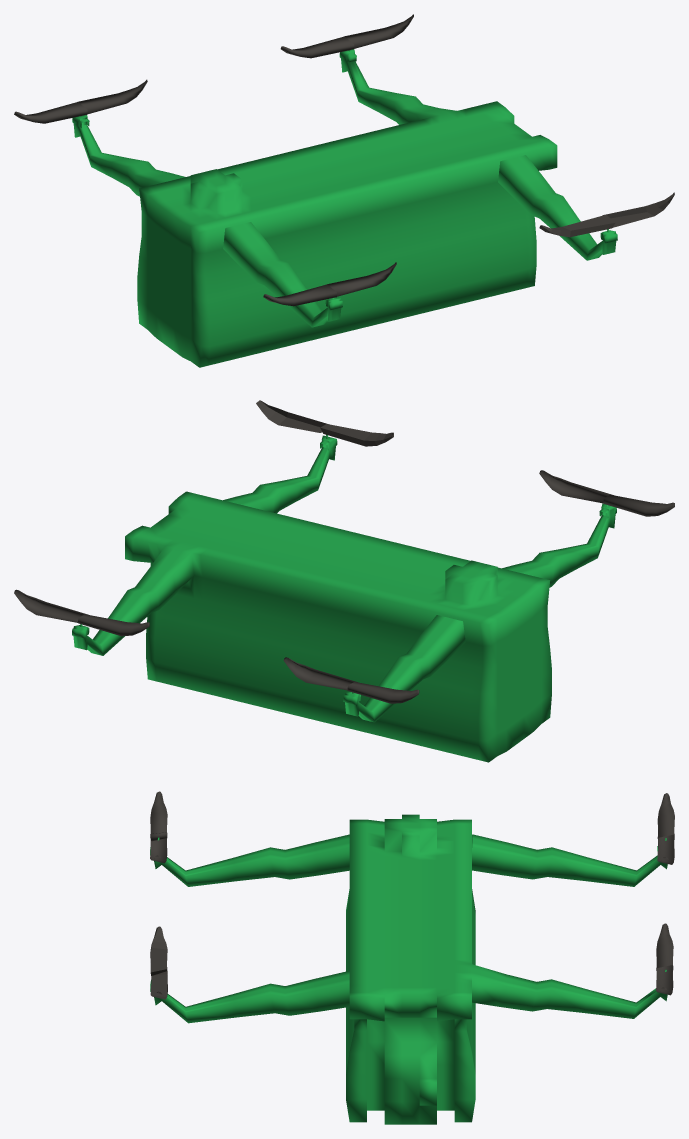
File: dronVerde.fbx
The picture shows the model from 3 angles, top to bottom: view 1: azimuth 30°, elevation 25°; view 2: azimuth 150°, elevation 25°; view 3: azimuth 270°, elevation 25°; orthographic projection.
Visible parts, largest first — view 1: Cube.007; view 2: Cube.007; view 3: Cube.007.
Boxes of the visible parts, x1,y1,x2,y2 form: Cube.007: (14, 14, 674, 367); Cube.007: (14, 400, 674, 762); Cube.007: (150, 791, 674, 1124).
Bounding box in the file's own units: 246 × 88.14 × 337.
